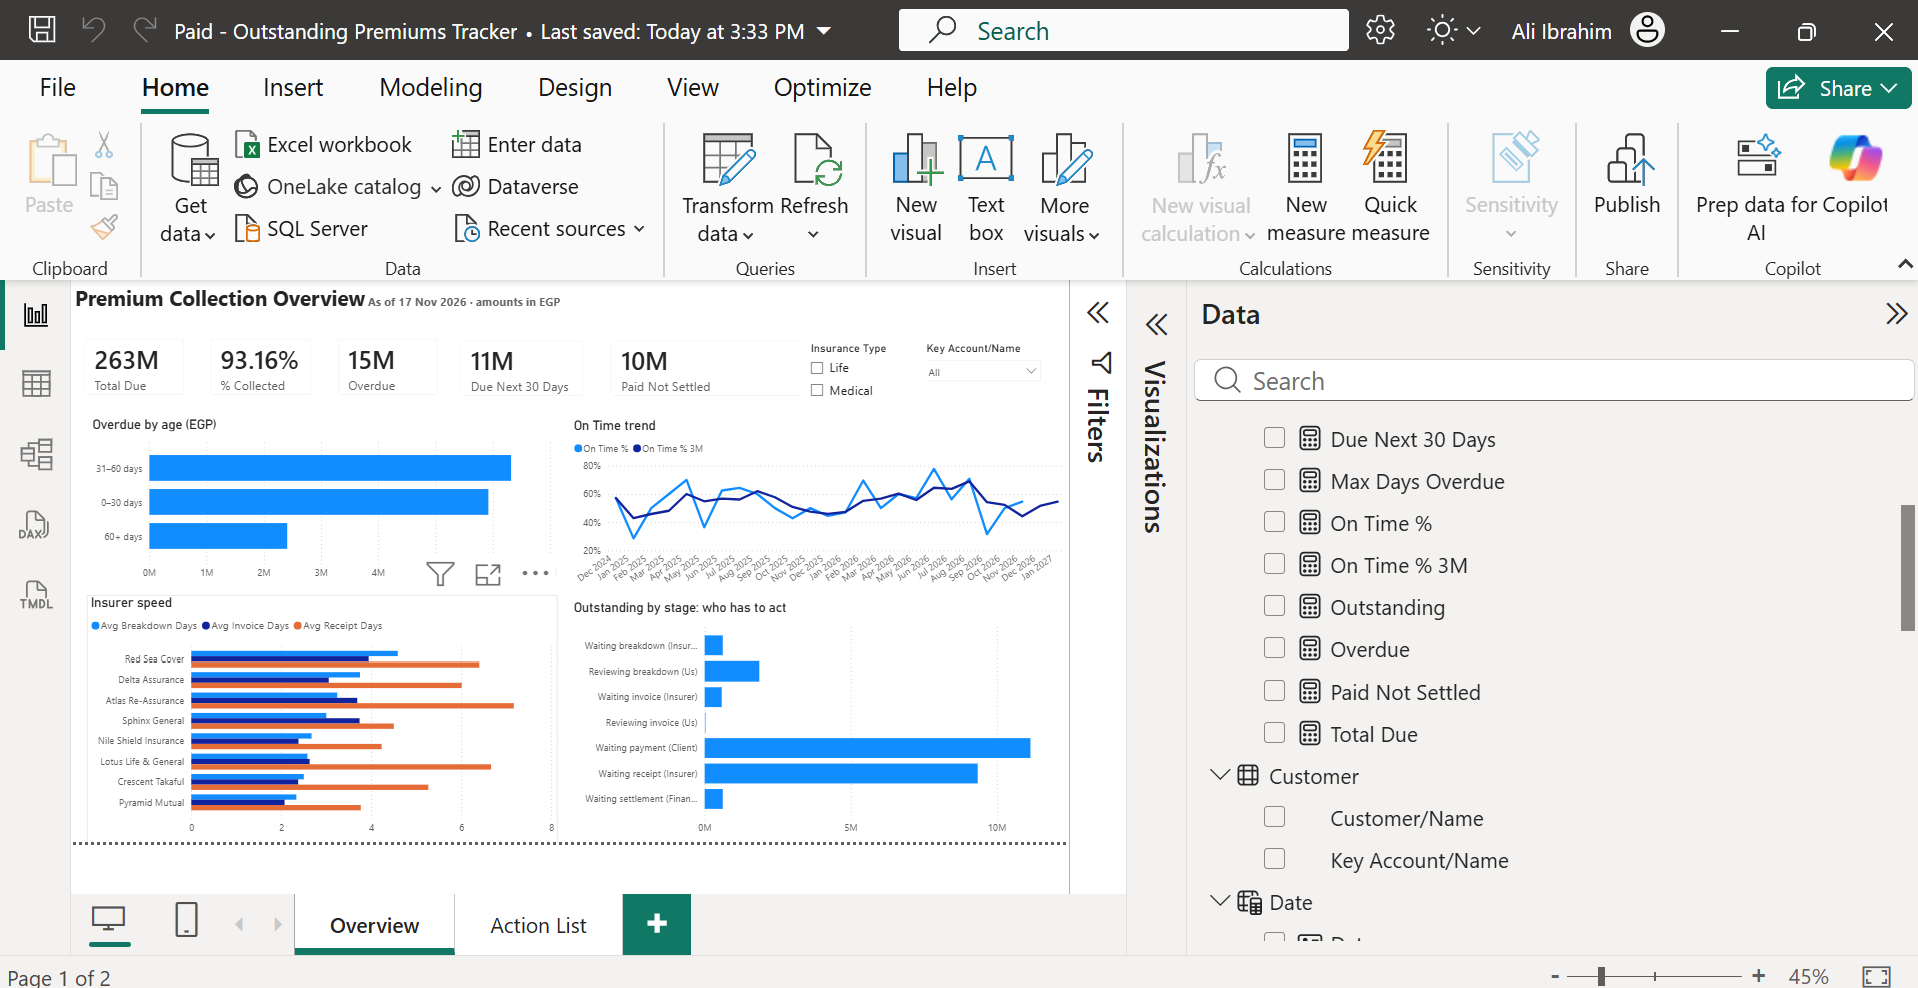

The page's visual inventory and layout, read from the dashboard file:
{"tool":"powerbi","page":{"name":"Overview","canvas":[1280,720],"ordinal":0},"visuals":[{"type":"textbox","box":[0,0,1107.5,67.5],"z":0},{"type":"cardVisual","fields":{"Data":["_Measures.Total Due"]},"box":[0,58,162,106],"z":1000},{"type":"cardVisual","fields":{"Data":["_Measures.% Collected"]},"box":[162,58,164,106],"z":2000},{"type":"cardVisual","fields":{"Data":["_Measures.Overdue"]},"box":[326,58,162,106],"z":3000},{"type":"cardVisual","fields":{"Data":["_Measures.Due Next 30 Days"]},"box":[482.5,60,192.5,105],"z":4000},{"type":"cardVisual","fields":{"Data":["_Measures.Paid Not Settled"]},"box":[675,60,295,105],"z":5000},{"type":"slicer","fields":{"Values":["Customer.Key Account/Name"]},"box":[1085,75,170,122.5],"z":6000},{"type":"slicer","fields":{"Values":["Product.Insurance Type"]},"box":[937.5,75,162.5,97.5],"z":7000},{"type":"clusteredBarChart","title":"Overdue by age (EGP)","fields":{"Category":["Installments.Aging Bucket"],"Y":["_Measures.Overdue"]},"box":[22,176,606,218],"z":8000},{"type":"lineChart","title":"On Time trend","fields":{"Category":["Date.Month"],"Y":["_Measures.On Time %","_Measures.On Time % 3M"]},"box":[640,177.5,640,232.5],"z":9000},{"type":"clusteredBarChart","title":"Insurer speed","fields":{"Category":["Installments.Insurer/Name"],"Y":["_Measures.Avg Breakdown Days","_Measures.Avg Invoice Days","_Measures.Avg Receipt Days"]},"box":[20,405,605,315],"z":10000},{"type":"clusteredBarChart","title":"Outstanding by stage: who has to act","fields":{"Category":["Installments.Stage"],"Y":["_Measures.Outstanding"]},"box":[640,411,640,309],"z":11000}]}

Visuals, with their boxes on the page's 1280x720 design canvas (x1, y1, x2, y2). These are canvas units, not pixel positions in the 1918x988 screenshot, which may show the page scaled, cropped or inside an application window:
textbox: [0,0,1108,68]
cardVisual - _Measures.Total Due: [0,58,162,164]
cardVisual - _Measures.% Collected: [162,58,326,164]
cardVisual - _Measures.Overdue: [326,58,488,164]
cardVisual - _Measures.Due Next 30 Days: [482,60,675,165]
cardVisual - _Measures.Paid Not Settled: [675,60,970,165]
slicer - Customer.Key Account/Name: [1085,75,1255,198]
slicer - Product.Insurance Type: [938,75,1100,172]
"Overdue by age (EGP)" clusteredBarChart: [22,176,628,394]
"On Time trend" lineChart: [640,178,1280,410]
"Insurer speed" clusteredBarChart: [20,405,625,720]
"Outstanding by stage: who has to act" clusteredBarChart: [640,411,1280,720]
